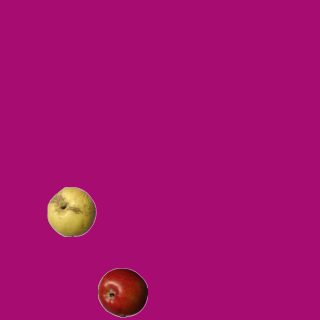Apple Braeburn: (97, 267, 147, 317)
Apple Golden 1: (46, 186, 96, 236)
